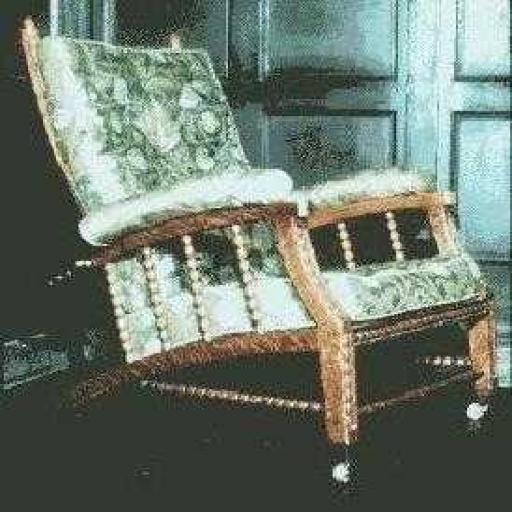chair: (12, 15, 502, 482)
